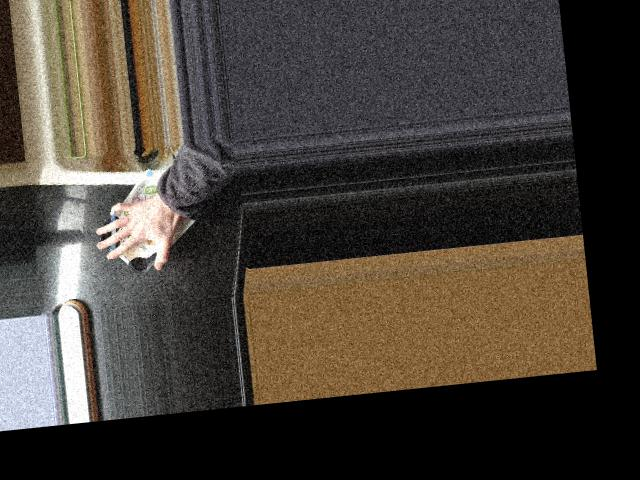cheese: (89, 160, 207, 279)
